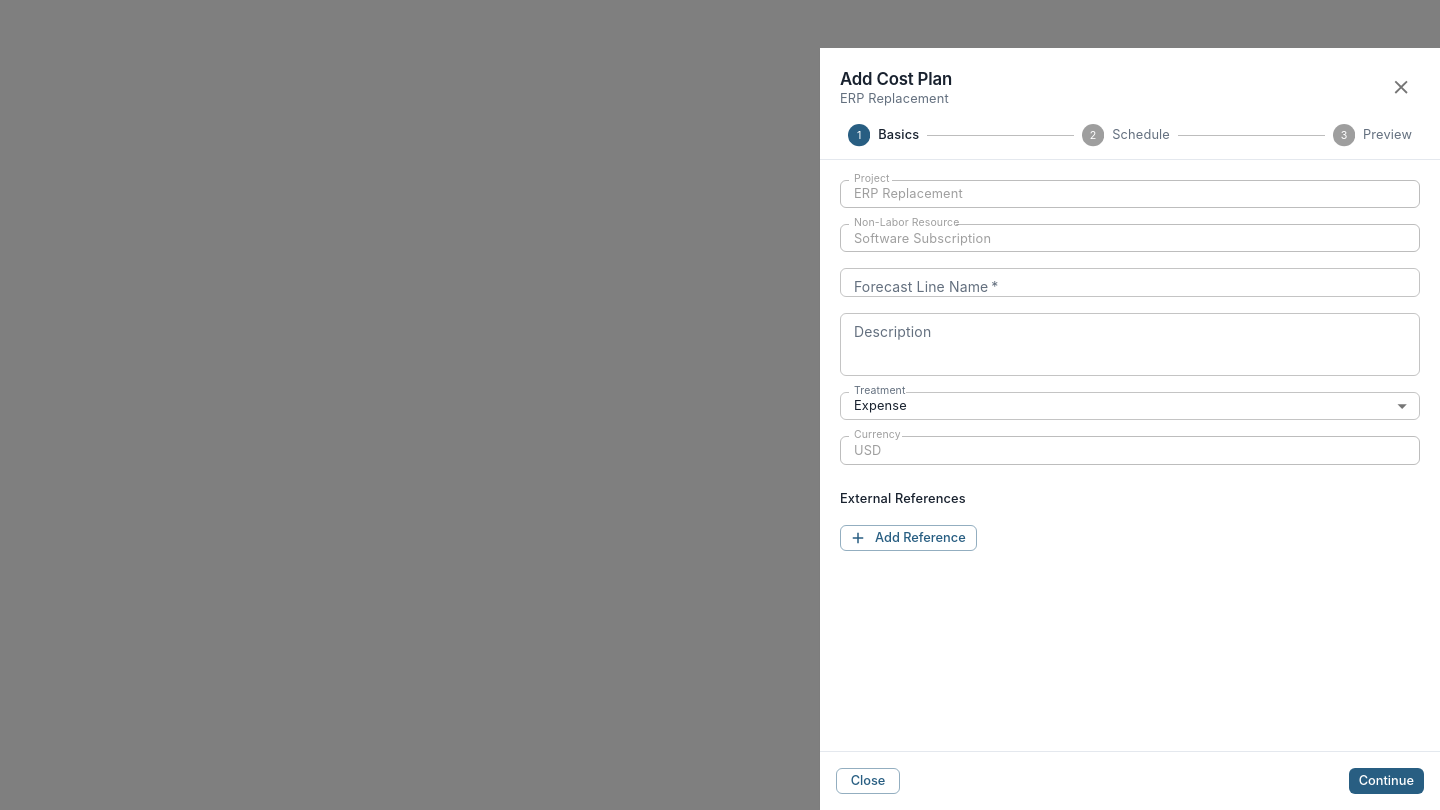
it: NonLaborPlanDrawer › removes unnecessary leading zeroes from entered amounts
The width and height of the screenshot is (1440, 810).
In the field labelled "Forecast Line Name *": x=1130, y=283 [840, 268, 1420, 297], type "License forecast"
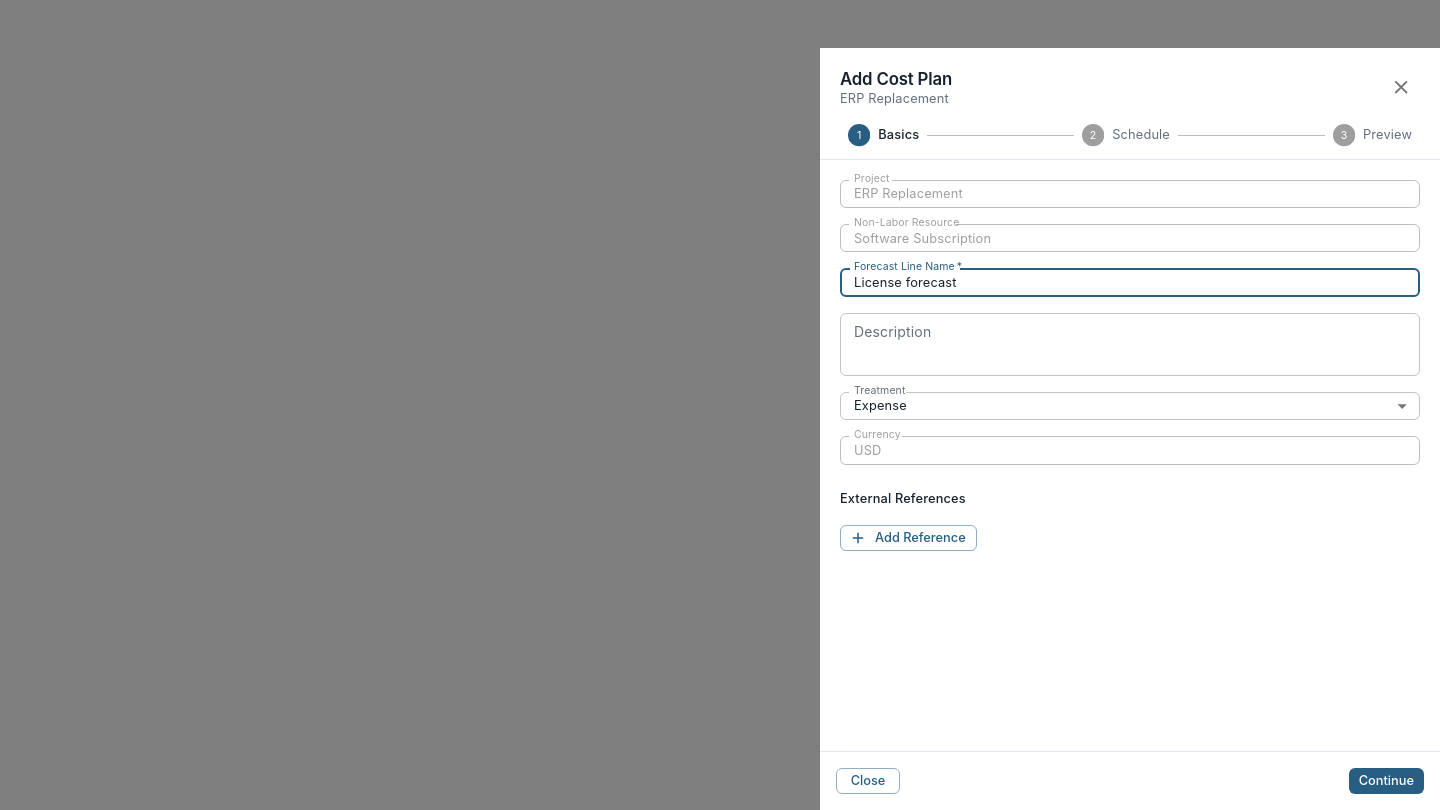
Click the button "Continue": x=1386, y=781 [1349, 768, 1424, 794]
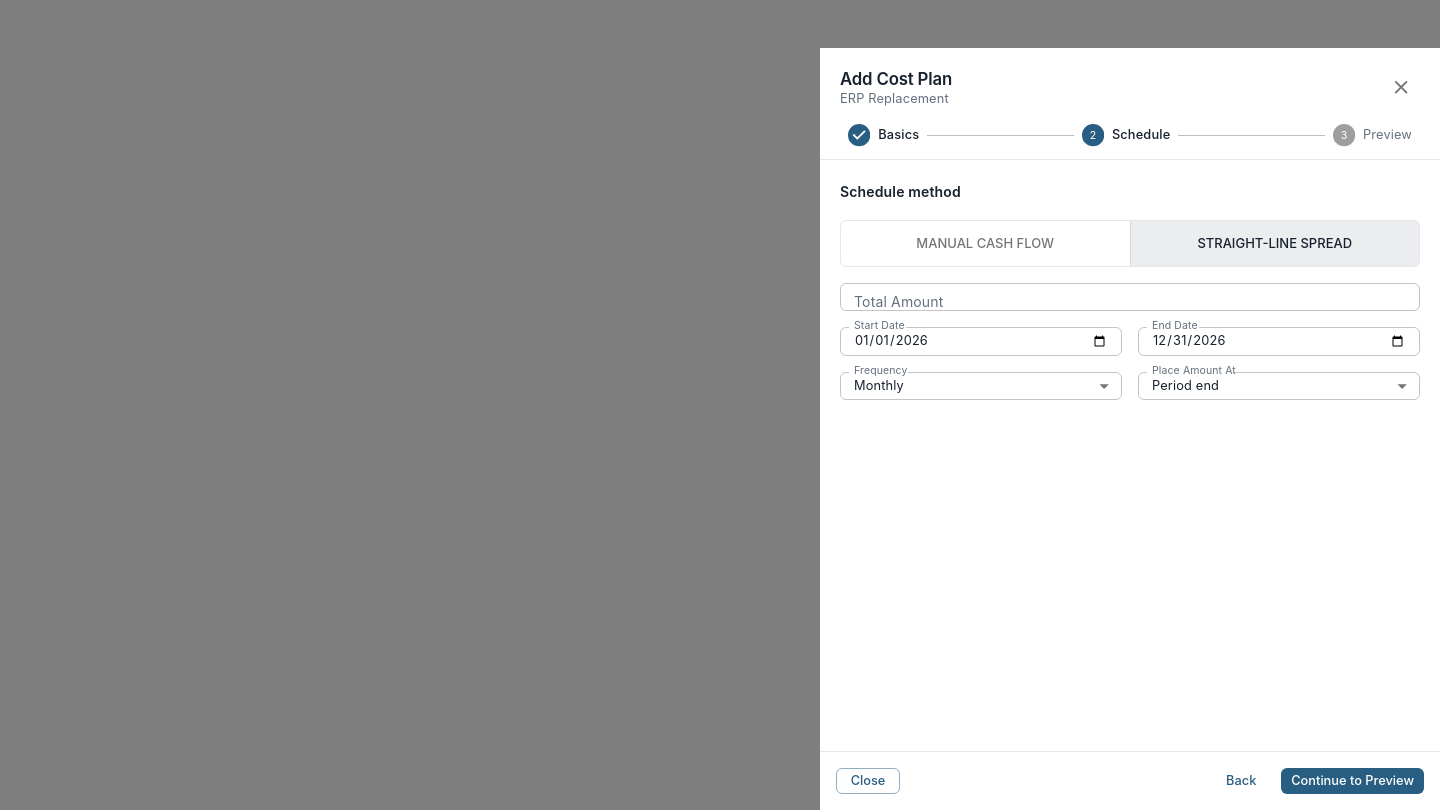
In the number field labelled "Total Amount": x=1130, y=297 [840, 283, 1420, 311], type "000125"
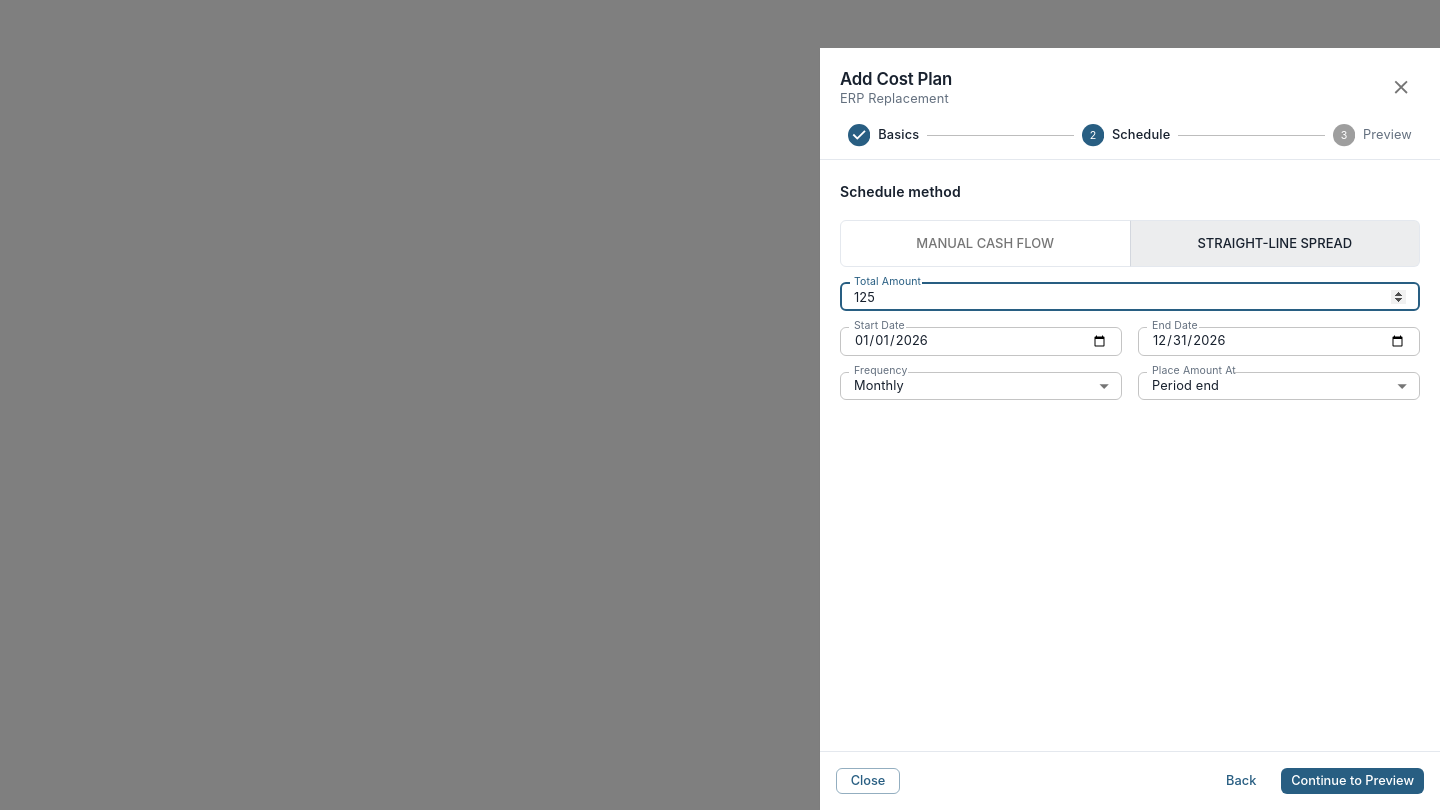
Expected: the number field labelled "Total Amount" holds "125", [840, 283, 1420, 311]
Click the button "Manual cash flow": x=985, y=244 [840, 220, 1130, 267]
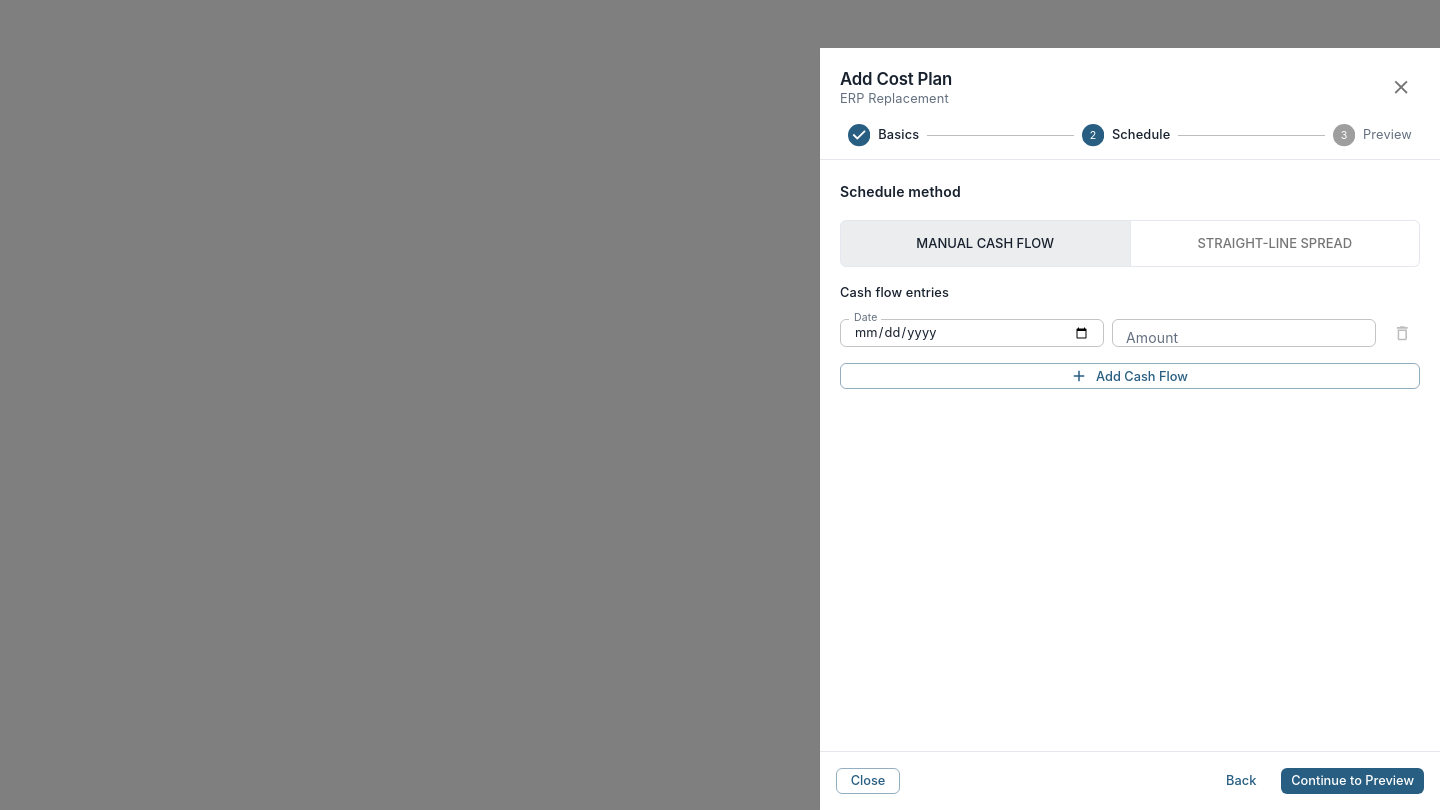
In the number field labelled "Amount": x=1244, y=333 [1112, 319, 1376, 347], type "00080"
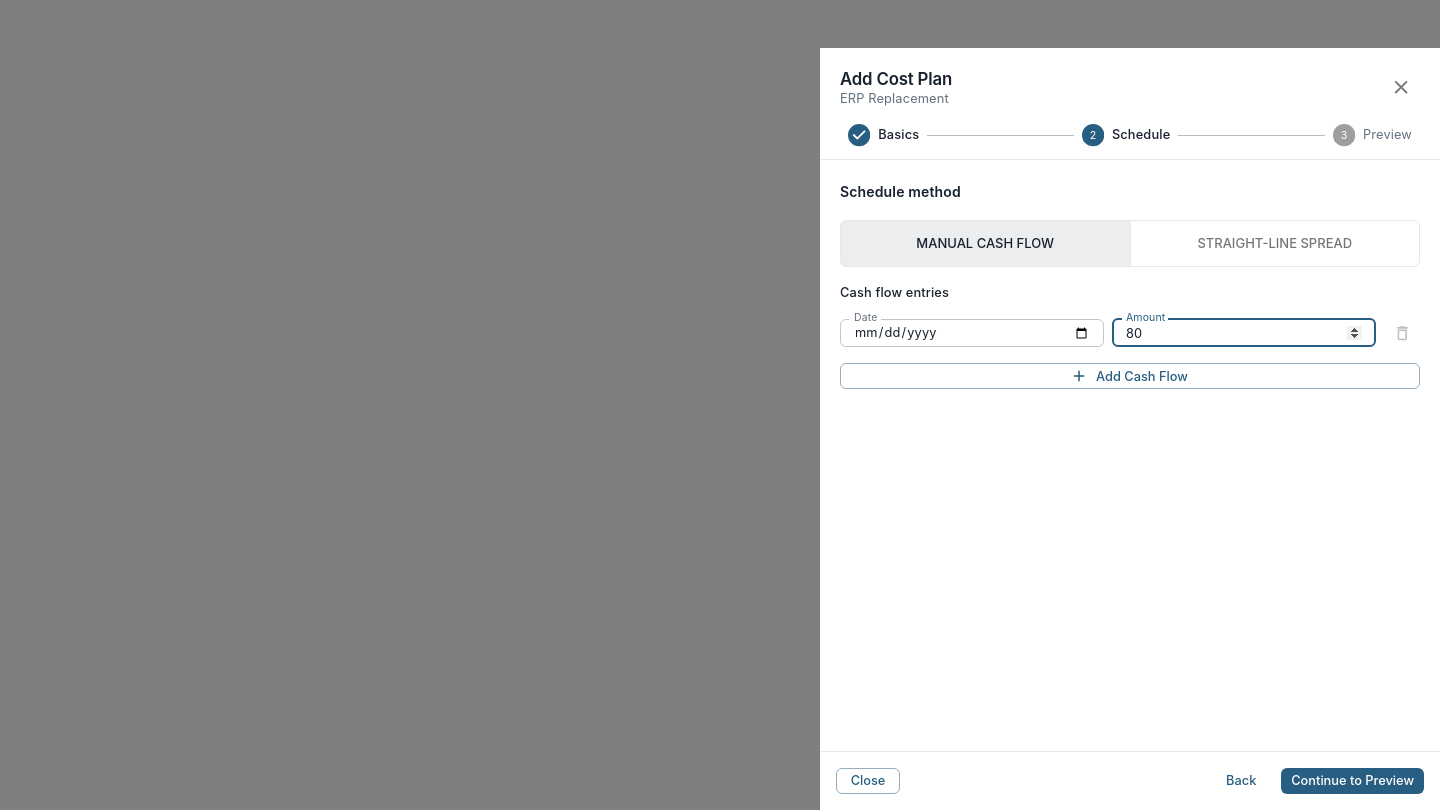
Expected: the number field labelled "Amount" holds "80", [1112, 319, 1376, 347]
